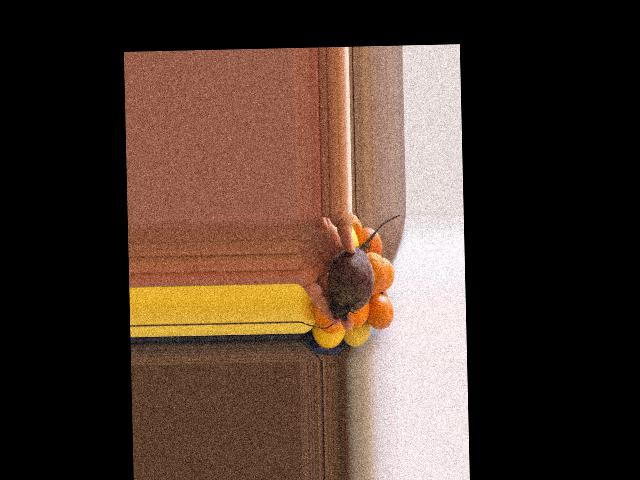beet: (326, 215, 402, 320)
